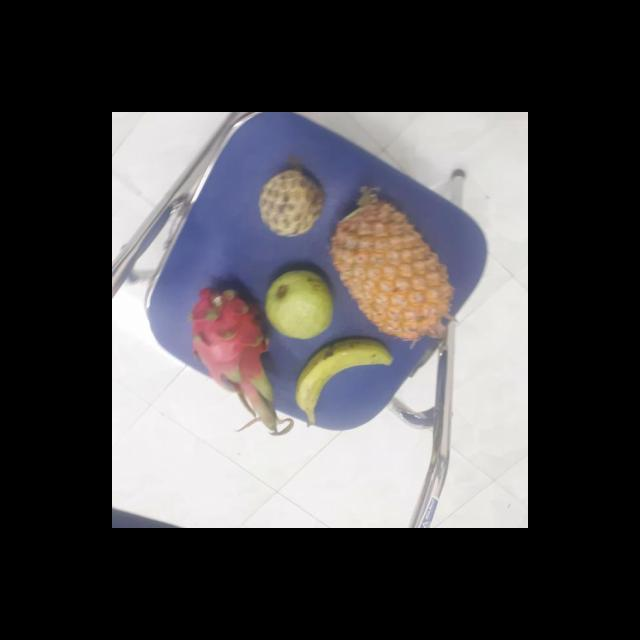Sakya fruit: (261, 168, 330, 235)
banana: (299, 340, 395, 422)
guava: (264, 269, 338, 339)
pineapple: (335, 194, 462, 337)
pitaya: (192, 284, 282, 408)
